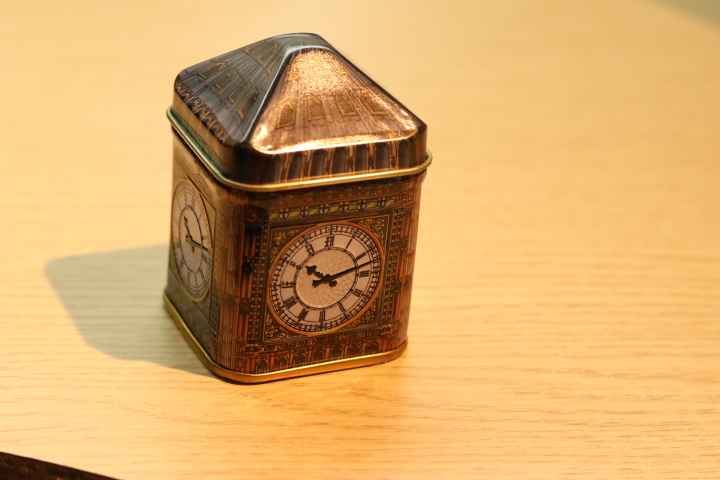Big Ben: (154, 20, 444, 393)
